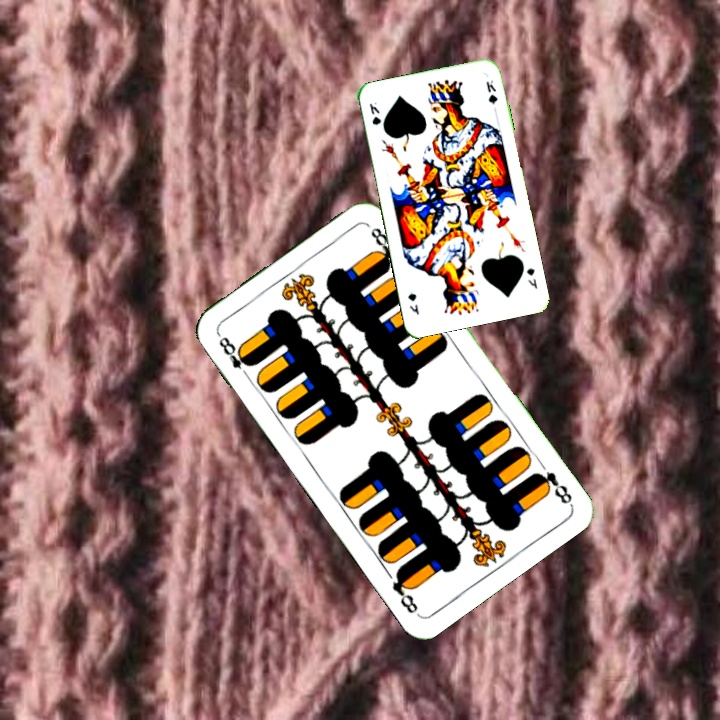E8: (213, 329, 256, 381), (530, 467, 575, 507)
GK: (365, 100, 384, 128), (522, 264, 540, 291)
